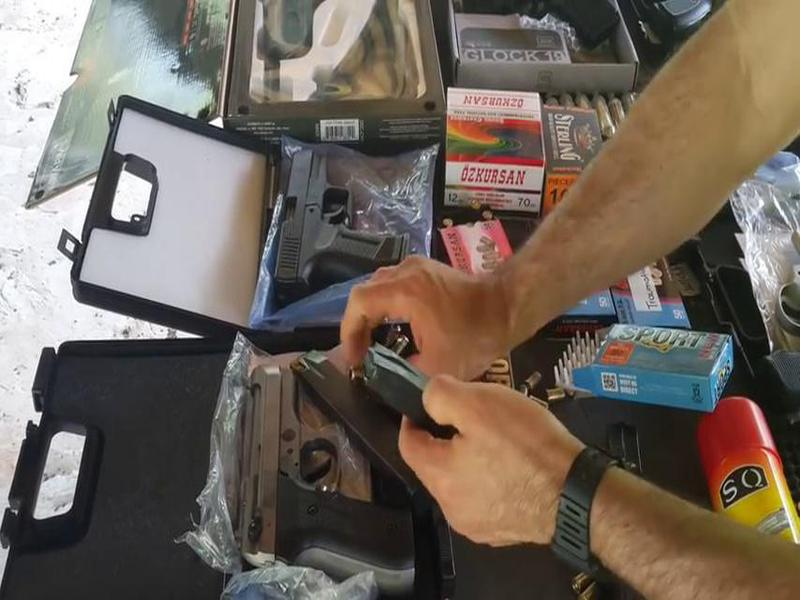Pistola: (230, 344, 431, 600), (267, 134, 424, 301)
